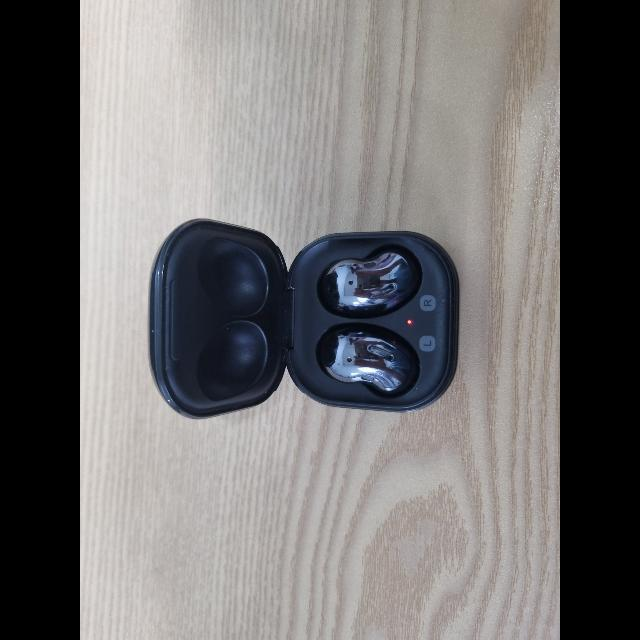buds_live: (145, 215, 463, 422)
